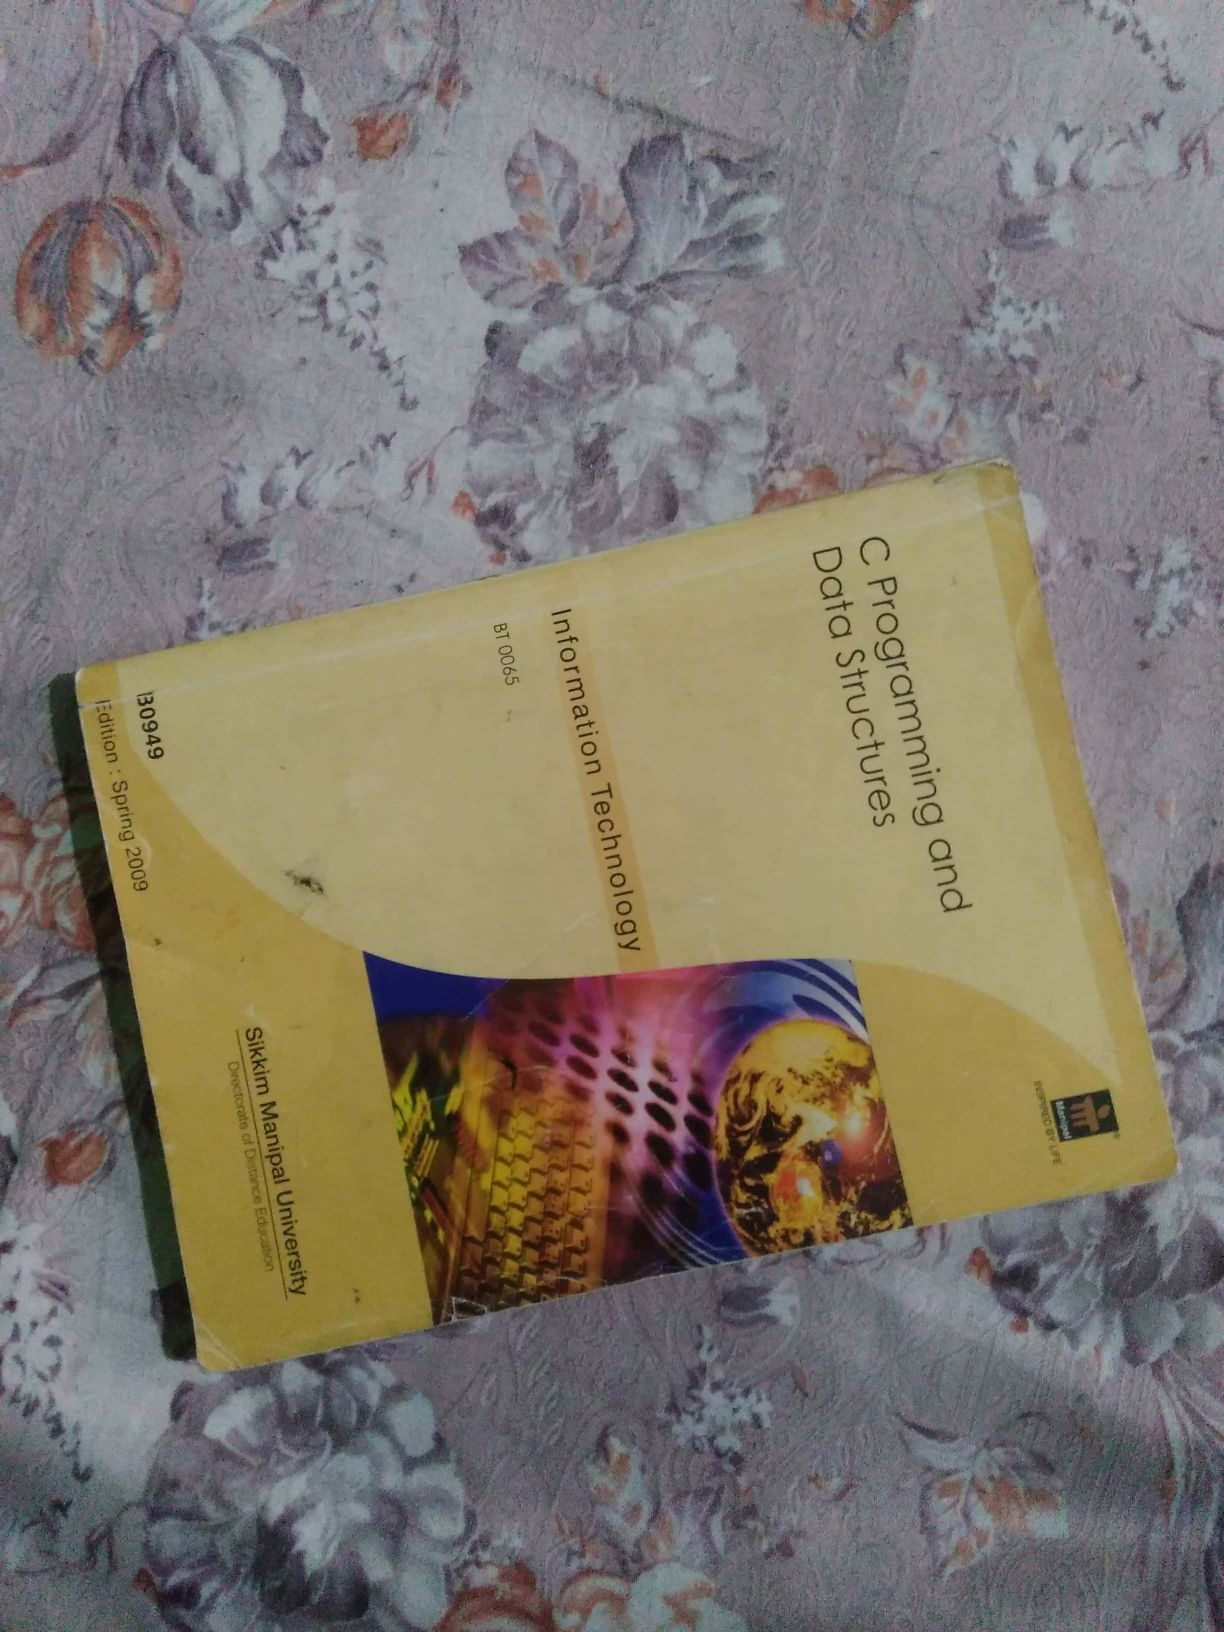clang: (78, 488, 1183, 1365)
